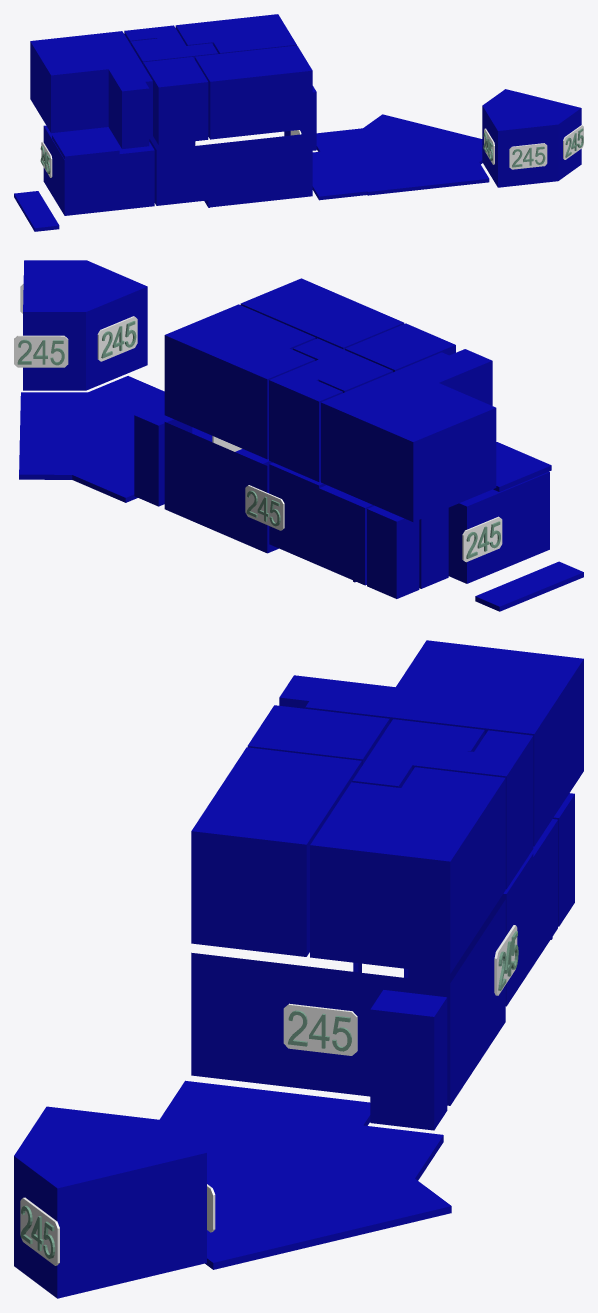
3 views of the same model, one above another, from view 1: azimuth 30°, elevation 25°; view 2: azimuth 150°, elevation 25°; view 3: azimuth 270°, elevation 25° (orthographic). The views are drawn at different scales.
Parts seen in each view (by area): view 1: g_11, g_13, g_1, g_7, g_5, g_0, g_9, g_6, g_12, g_8, g_14, g_18 (+3 smaller); view 2: g_11, g_6, g_13, g_5, g_2, g_1, g_0, g_7, g_10, g_3, g_4, g_9 (+7 smaller); view 3: g_13, g_6, g_5, g_1, g_7, g_11, g_4, g_2, g_10, g_9, g_8, g_38 (+2 smaller).
Boxes of the visible parts, left/top/right/bottom form: g_11: left=30, top=31, right=152, bottom=148; g_13: left=312, top=114, right=489, bottom=200; g_1: left=149, top=133, right=312, bottom=207; g_7: left=195, top=45, right=312, bottom=139; g_5: left=482, top=89, right=581, bottom=187; g_0: left=43, top=125, right=154, bottom=215; g_9: left=143, top=57, right=208, bottom=144; g_6: left=175, top=14, right=296, bottom=53; g_12: left=52, top=129, right=119, bottom=159; g_8: left=130, top=36, right=218, bottom=64; g_14: left=14, top=191, right=59, bottom=231; g_18: left=509, top=143, right=547, bottom=169; g_11: left=321, top=349, right=496, bottom=522; g_6: left=164, top=304, right=315, bottom=459; g_13: left=19, top=376, right=272, bottom=502; g_5: left=23, top=260, right=147, bottom=390; g_2: left=269, top=462, right=448, bottom=588; g_1: left=164, top=422, right=278, bottom=553; g_0: left=448, top=471, right=549, bottom=583; g_7: left=240, top=278, right=404, bottom=349; g_10: left=269, top=369, right=342, bottom=481; g_3: left=367, top=505, right=419, bottom=598; g_4: left=134, top=403, right=192, bottom=506; g_9: left=345, top=323, right=455, bottom=372; g_13: left=160, top=1080, right=451, bottom=1269; g_6: left=310, top=767, right=505, bottom=973; g_5: left=14, top=1106, right=206, bottom=1298; g_1: left=191, top=900, right=505, bottom=1105; g_7: left=191, top=747, right=361, bottom=956; g_11: left=279, top=640, right=583, bottom=846; g_4: left=370, top=990, right=447, bottom=1130; g_2: left=408, top=819, right=557, bottom=1006; g_10: left=454, top=730, right=533, bottom=889; g_9: left=247, top=705, right=389, bottom=766; g_8: left=352, top=719, right=484, bottom=787; g_38: left=283, top=1003, right=357, bottom=1055.
Size of the model in its own units: 20.64 by 5.35 by 10.96.
